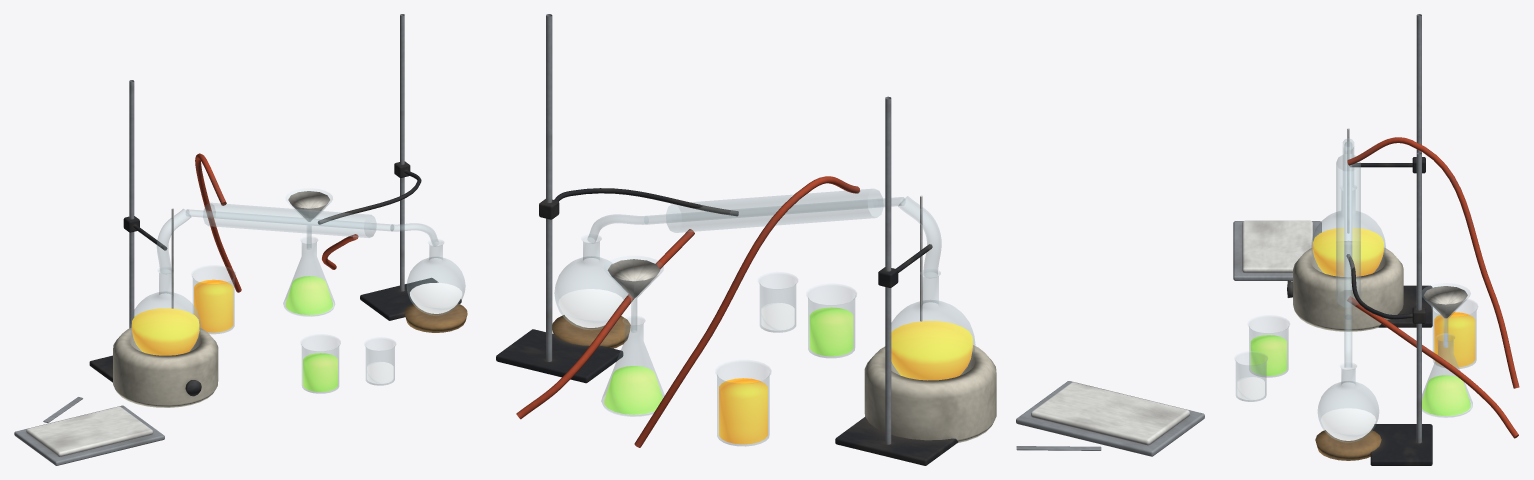
The model's file is lab_aparatura.glb.
3 views of the same model, side by side, from view 1: azimuth 30°, elevation 25°; view 2: azimuth 150°, elevation 25°; view 3: azimuth 270°, elevation 25° (orthographic). The views are drawn at different scales.
Visible parts, largest first — view 1: Sprzet, Szklo, Ciecze; view 2: Sprzet, Szklo, Ciecze; view 3: Sprzet, Szklo, Ciecze.
Boxes of the visible parts, box(x1,y1,x2,y2) form: Sprzet: box(14, 14, 467, 465); Szklo: box(130, 189, 465, 393); Ciecze: box(131, 276, 462, 391); Sprzet: box(496, 14, 1204, 465); Szklo: box(554, 189, 975, 446); Ciecze: box(558, 289, 972, 444); Sprzet: box(1233, 14, 1519, 465); Szklo: box(1234, 138, 1477, 442); Ciecze: box(1237, 228, 1475, 440).
Bounding box in the file's own units: 1.29 × 0.7395 × 0.6466.
Materials: 5 (1 with a texture image).
